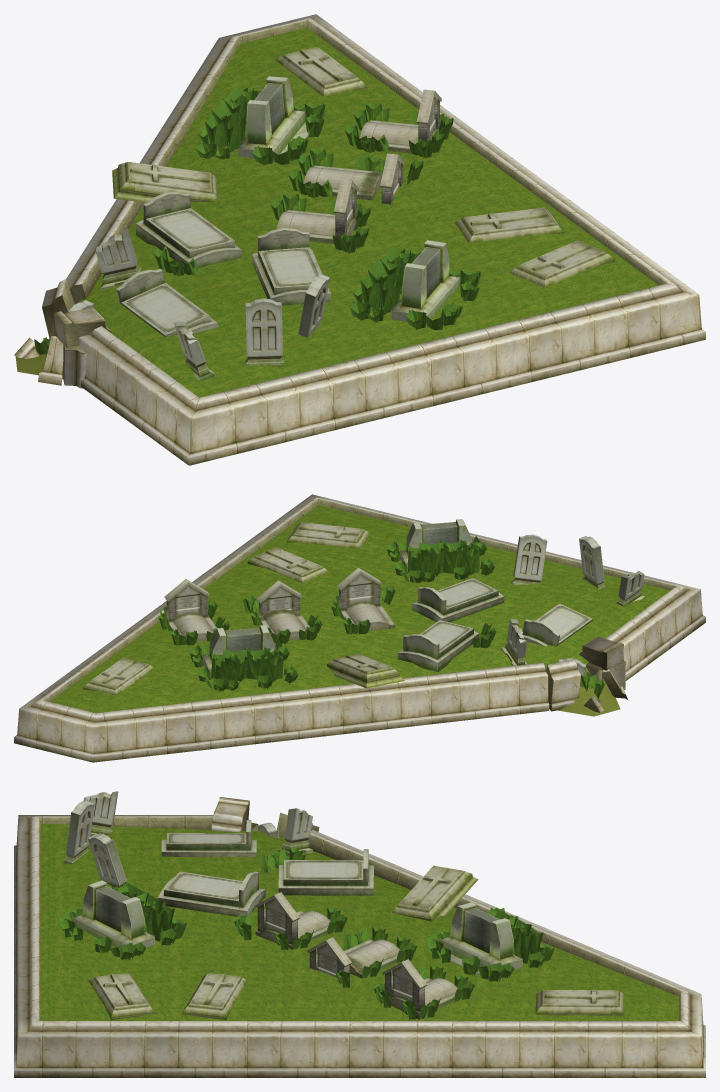
The model's file is a_SWTpart03a.glb.
3 views of the same model, one above another, from view 1: azimuth 30°, elevation 25°; view 2: azimuth 150°, elevation 25°; view 3: azimuth 270°, elevation 25° (orthographic). The views are drawn at different scales.
Visible parts, largest first — view 1: a_SWTpart03a; view 2: a_SWTpart03a; view 3: a_SWTpart03a.
Boxes of the visible parts, x1=… form: a_SWTpart03a: x1=14, y1=14, x2=705, y2=465; a_SWTpart03a: x1=14, y1=494, x2=705, y2=762; a_SWTpart03a: x1=14, y1=791, x2=705, y2=1077.
Size of the model in its own units: 10.58 by 2.1 by 13.
Materials: 11 (11 with a texture image).
